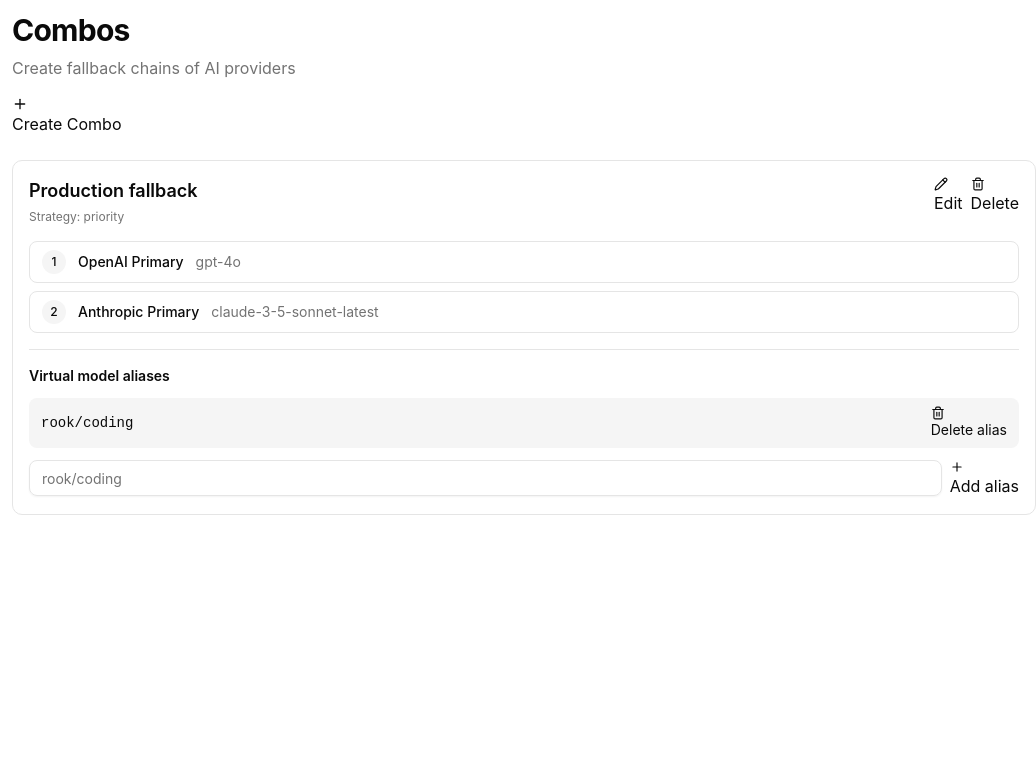
Test: CombosView › shows the backend error when alias creation fails
The image size is (1036, 780).
Type "rook/existing" into the field with test id "combo-alias-input-combo-1" at (485, 478), box [29, 460, 942, 496]
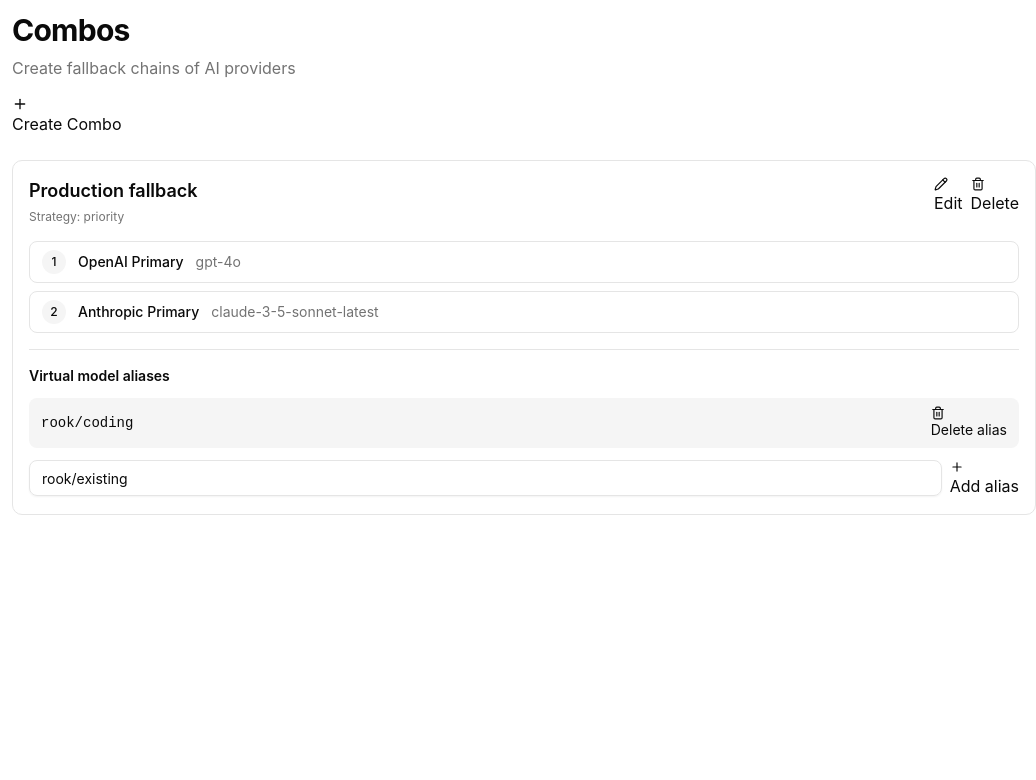
Submit the form with test id "combo-alias-form-combo-1", box [29, 460, 1019, 498]
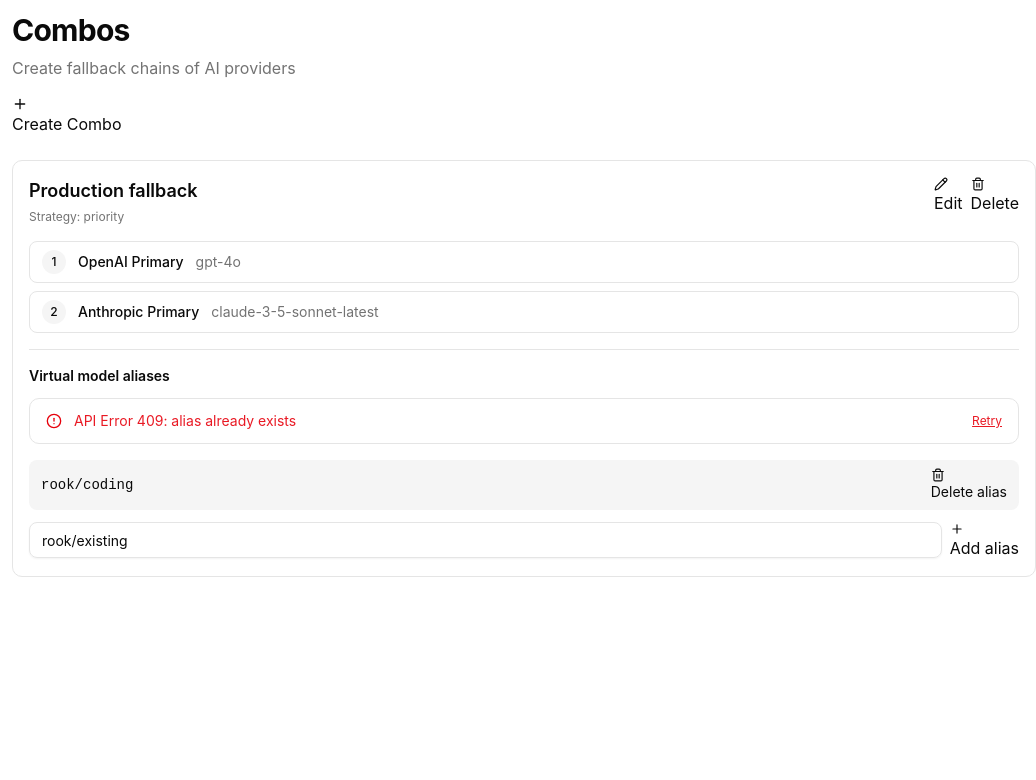
expect the text "API Error 409: alias already exists" is shown: met, box [74, 412, 296, 429]
